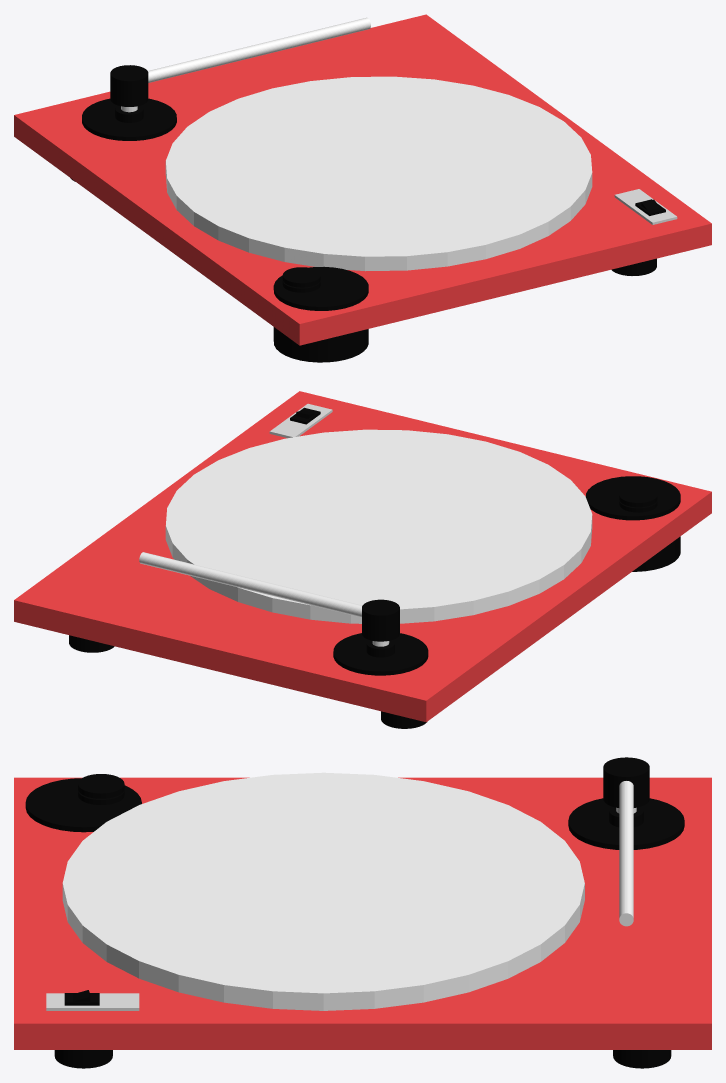
File: uturn.glb
The picture shows the model from 3 angles, top to bottom: view 1: azimuth 30°, elevation 25°; view 2: azimuth 150°, elevation 25°; view 3: azimuth 270°, elevation 25°; orthographic projection. The views are drawn at different scales.
Parts seen in each view (by area): view 1: Cylinder, recordBody, recordArmPivot, recordArm.001, Cylinder.006, Cylinder.002, Cube.001, Cylinder.008; view 2: Cylinder, recordBody, recordArmPivot, recordArm.001, Cylinder.006, Cube.001, Cylinder.002, Cylinder.008; view 3: Cylinder, recordBody, recordArmPivot, recordArm.001, Cylinder.006, Cube.001, Cylinder.008, Cylinder.003, Cylinder.005.
Part boxes in pixels (box(x1,y1,x2,y2)): Cylinder: box(165, 76, 592, 271); recordBody: box(14, 14, 711, 345); recordArmPivot: box(110, 17, 370, 106); recordArm.001: box(82, 98, 176, 140); Cylinder.006: box(273, 266, 368, 310); Cylinder.002: box(273, 327, 368, 362); Cube.001: box(614, 189, 677, 224); Cylinder.008: box(282, 267, 320, 287); Cylinder: box(165, 429, 592, 623); recordBody: box(14, 391, 711, 722); recordArmPivot: box(139, 552, 399, 641); recordArm.001: box(333, 633, 428, 675); Cylinder.006: box(585, 476, 680, 520); Cube.001: box(269, 403, 332, 438); Cylinder.002: box(632, 536, 680, 571); Cylinder.008: box(619, 487, 657, 507); Cylinder: box(62, 772, 584, 1010); recordBody: box(14, 777, 711, 1049); recordArmPivot: box(603, 757, 649, 926); recordArm.001: box(568, 798, 684, 849); Cylinder.006: box(25, 778, 141, 832); Cube.001: box(46, 993, 139, 1010); Cylinder.008: box(78, 774, 124, 798); Cylinder.003: box(54, 1050, 112, 1068); Cylinder.005: box(613, 1050, 671, 1068).
Bounding box in the file's own units: 10 × 2.3 × 12.
